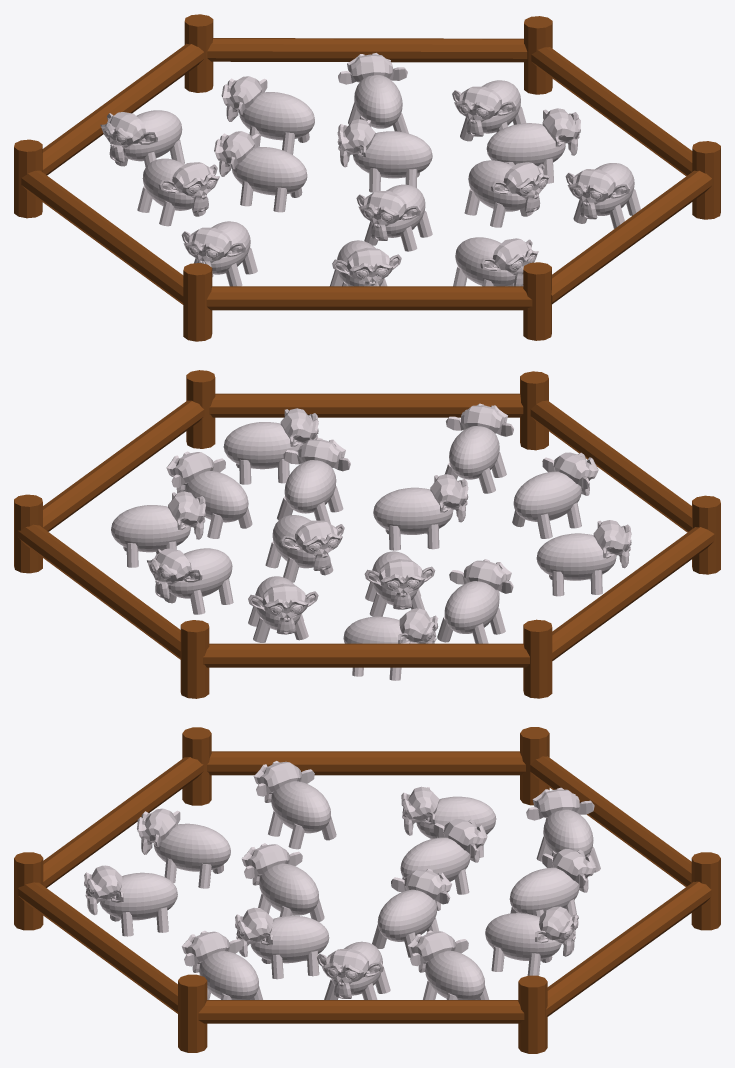
File: sheepTile.fbx
The picture shows the model from 3 angles, top to bottom: view 1: azimuth 30°, elevation 25°; view 2: azimuth 150°, elevation 25°; view 3: azimuth 270°, elevation 25°; orthographic projection.
Visible parts, largest first — view 1: Cylinder.005; view 2: Cylinder.005; view 3: Cylinder.005.
Part boxes in pixels (x1,y1,x2,y2): Cylinder.005: (14, 14, 720, 341); Cylinder.005: (14, 370, 720, 698); Cylinder.005: (14, 727, 720, 1053).
Size of the model in its own units: 782 by 92.96 by 897.
